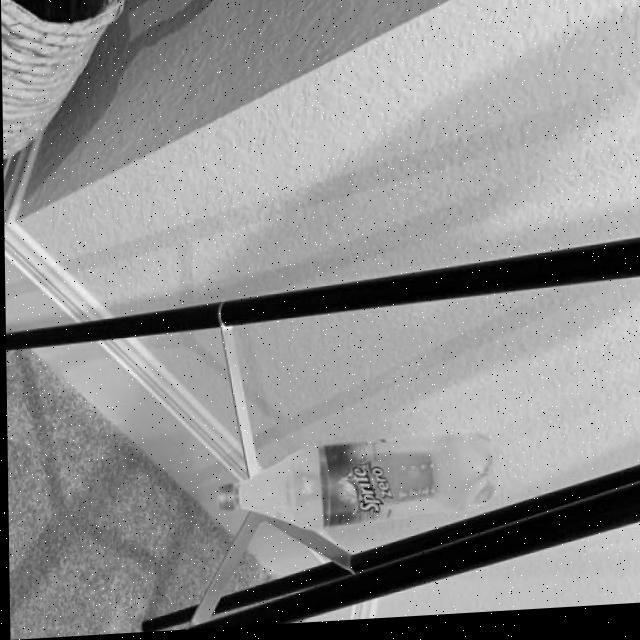bottle: (214, 433, 501, 538)
